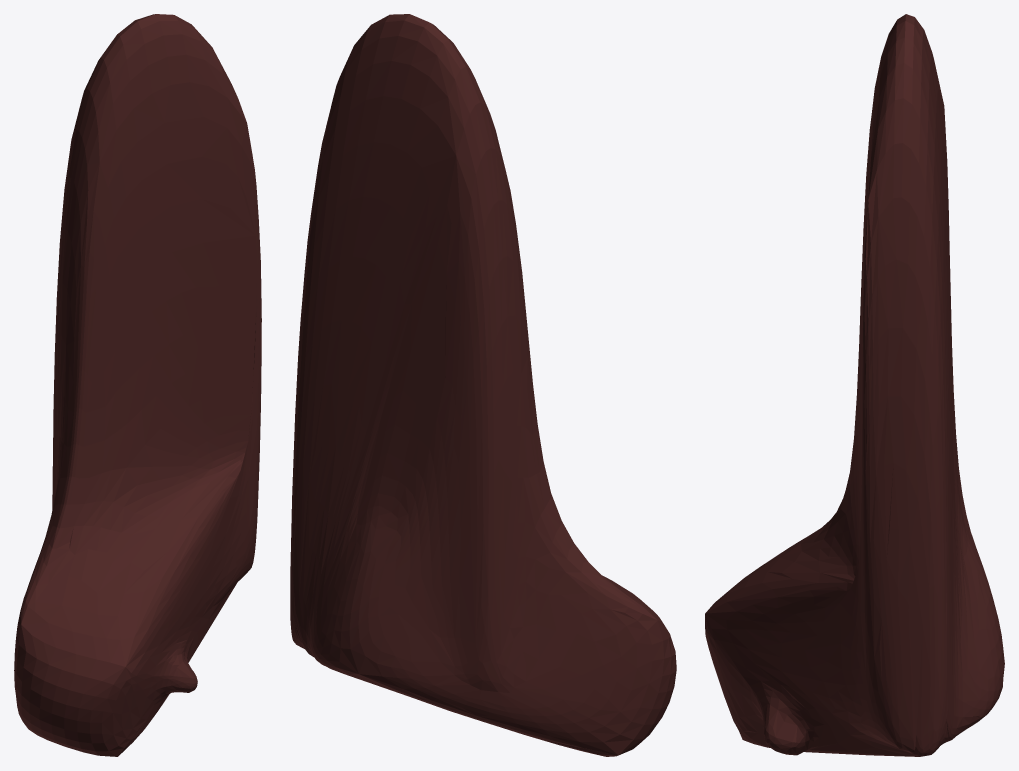
3 views of the same model, side by side, from view 1: azimuth 30°, elevation 25°; view 2: azimuth 150°, elevation 25°; view 3: azimuth 270°, elevation 25° (orthographic). The views are drawn at different scales.
Visible parts, largest first — view 1: 999_Cube.4032; view 2: 999_Cube.4032; view 3: 999_Cube.4032.
Boxes of the visible parts, x1,y1,x2,y2 form: 999_Cube.4032: (14,14,261,756); 999_Cube.4032: (290,14,676,756); 999_Cube.4032: (705,14,1004,756).
Bounding box in the file's own units: 5.68 × 12.89 × 4.49.
